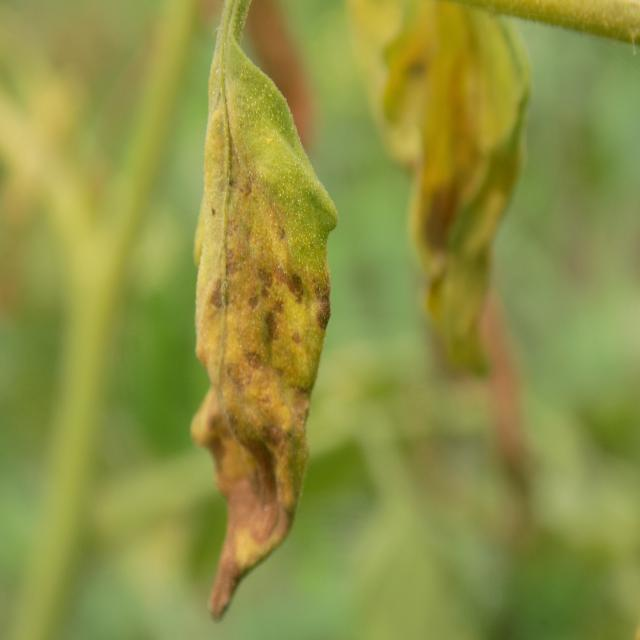tomato_early blight: (189, 12, 337, 626)
